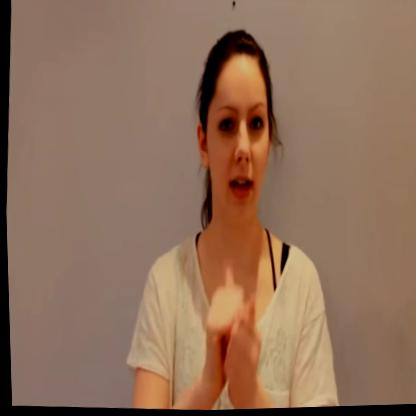HowAreYou: (192, 252, 275, 412)
